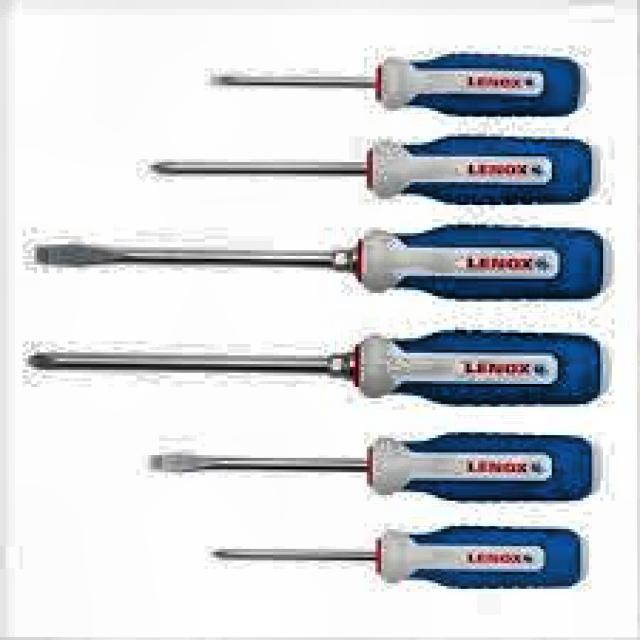screwdriver: (29, 329, 610, 406), (33, 227, 613, 300), (150, 433, 601, 502), (151, 136, 599, 205), (210, 54, 586, 120), (212, 525, 586, 589)
